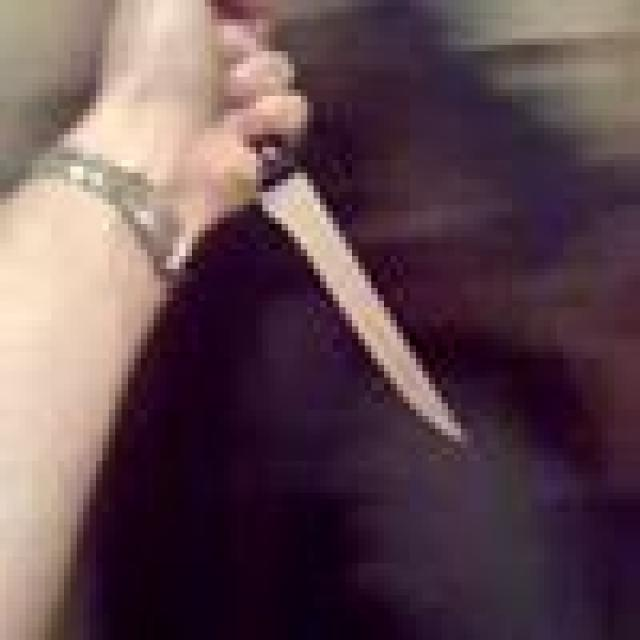knife: (260, 152, 465, 440)
